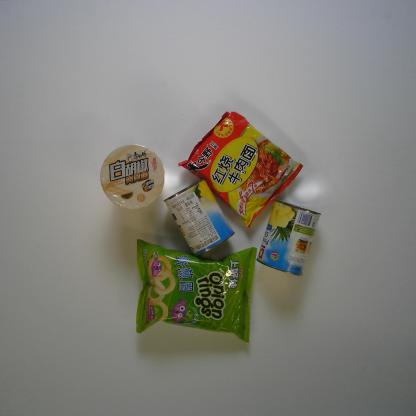Canned Food: (163, 177, 235, 256), (255, 199, 322, 277)
Instant Noodles: (177, 110, 304, 229), (100, 144, 165, 210)
Puffed Food: (134, 238, 258, 344)
